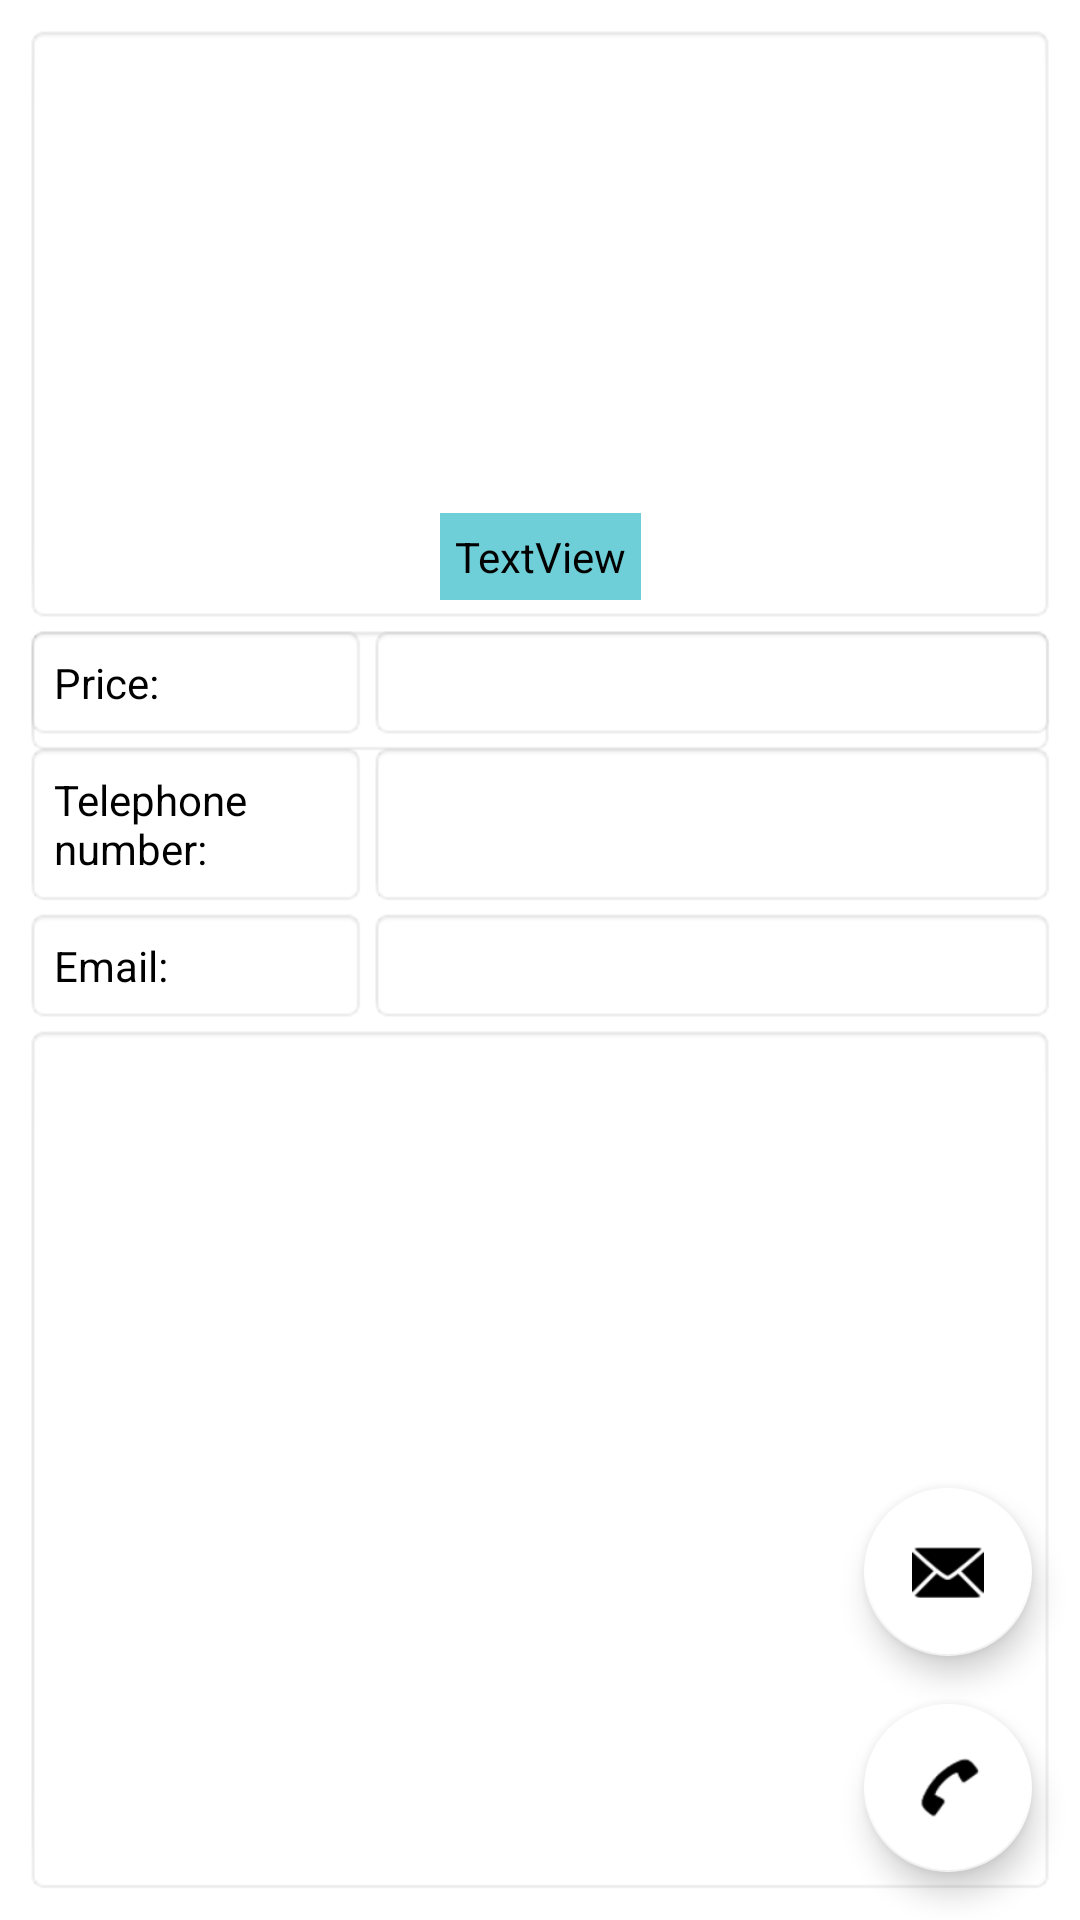

Icons on this 1080 x 1920 Android screen, each with its box as (x1, y1, x2, y2):
email: (870, 1547, 984, 1609)
sym action call: (869, 1758, 1032, 1872)
